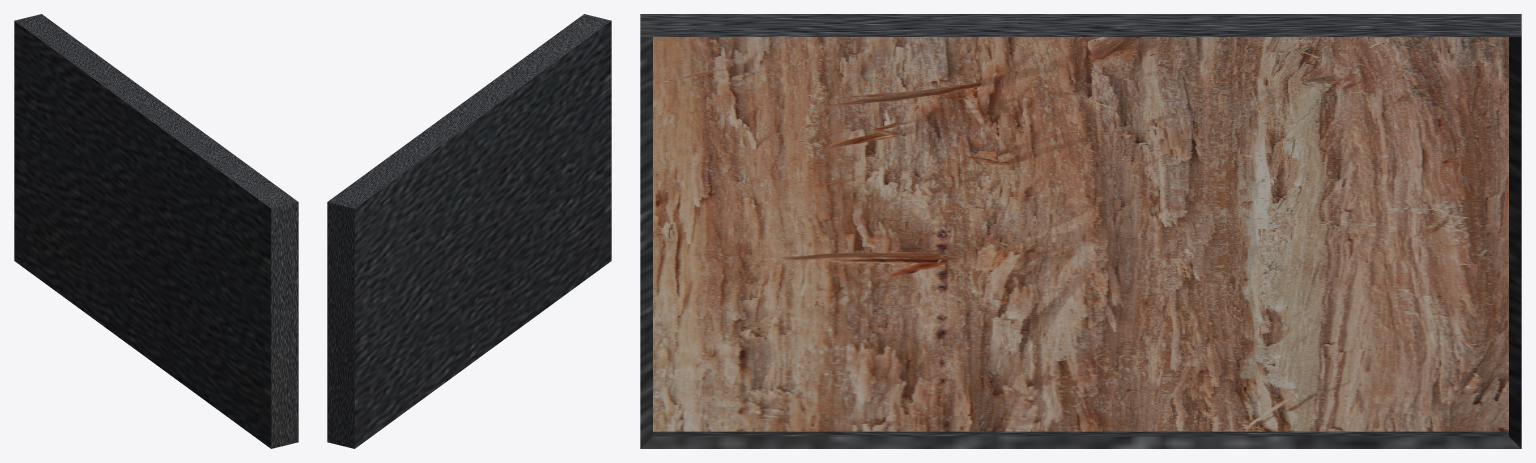
File: Crockboard.fbx
The picture shows the model from 3 angles, left to right: view 1: azimuth 30°, elevation 25°; view 2: azimuth 150°, elevation 25°; view 3: azimuth 270°, elevation 25°; orthographic projection. The views are drawn at different scales.
Parts seen in each view (by area): view 1: Cube; view 2: Cube; view 3: Cube.001, Cube.
Part boxes in pixels (x1,y1,x2,y2): Cube: [14, 14, 298, 448]; Cube: [327, 14, 611, 448]; Cube.001: [653, 37, 1508, 431]; Cube: [640, 14, 1521, 448].
Size of the model in its own units: 46.78 by 391 by 758.
2 materials, 2 textured.
